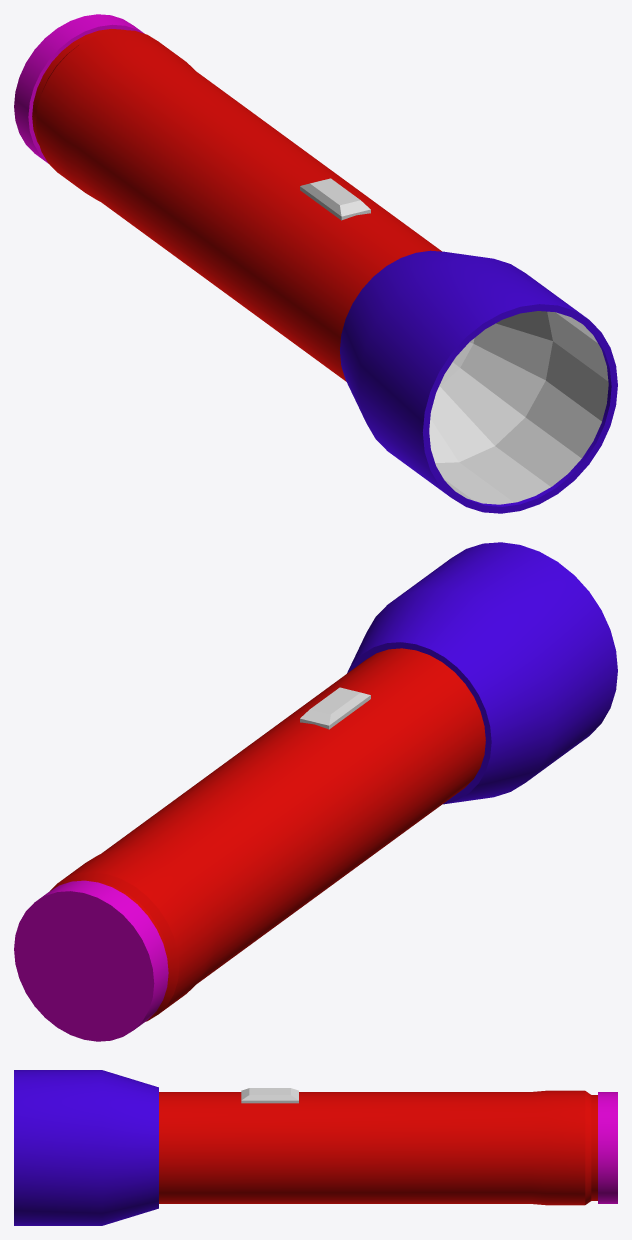
File: FlashLightver.fbx
3 renders of one model, top to bottom at view 1: azimuth 30°, elevation 25°; view 2: azimuth 150°, elevation 25°; view 3: azimuth 270°, elevation 25°, orthographic. The views are drawn at different scales.
Parts seen in each view (by area): view 1: Body, Panel, Button; view 2: Body, Button; view 3: Body, Button.
Part boxes in pixels (box(x1,y1,x2,y2)): Body: box(14, 14, 617, 513); Panel: box(429, 311, 608, 504); Button: box(300, 178, 370, 220); Body: box(14, 542, 617, 1041); Button: box(300, 687, 370, 729); Body: box(14, 1070, 617, 1225); Button: box(241, 1088, 298, 1103).
Size of the model in its own units: 19.07 by 19.07 by 73.83.
